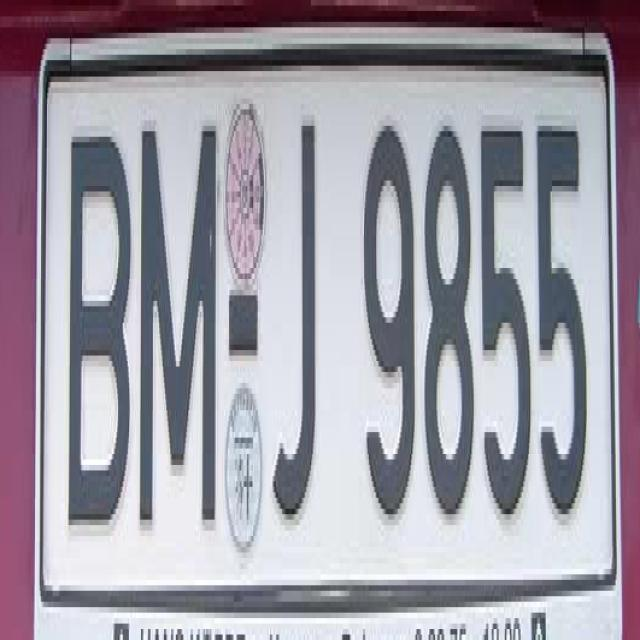Autre: (37, 44, 620, 640)
